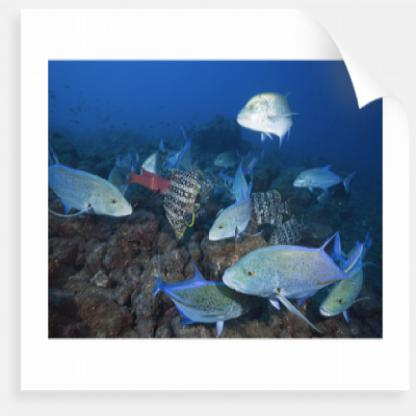Carangidae -Jacks-: (224, 229, 365, 311), (150, 252, 250, 329), (50, 149, 137, 221), (237, 89, 305, 149), (205, 186, 265, 238)
